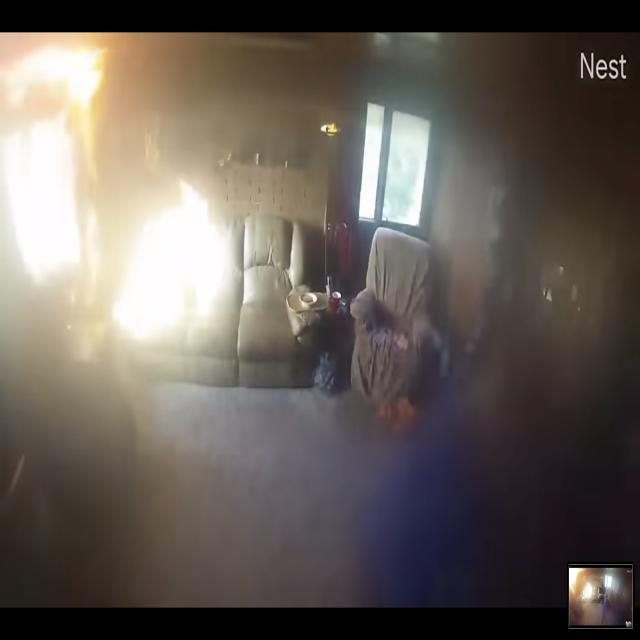Fogo: (9, 40, 130, 198)
